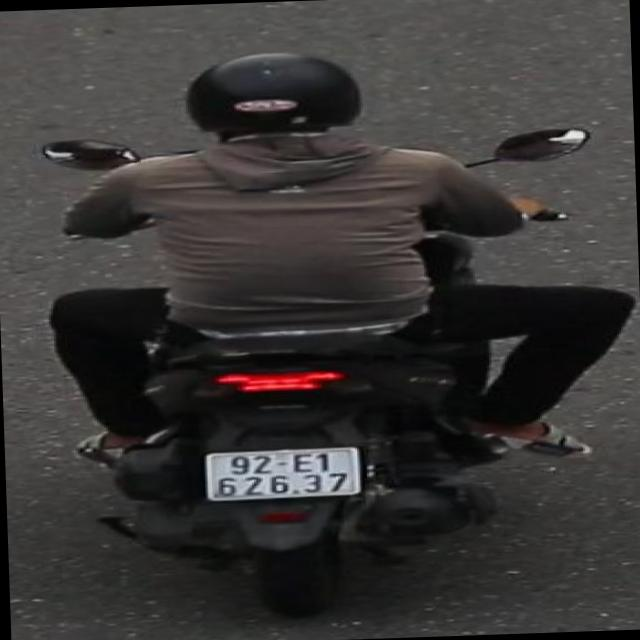LP: (194, 440, 364, 502)
helmet: (162, 45, 378, 162)
